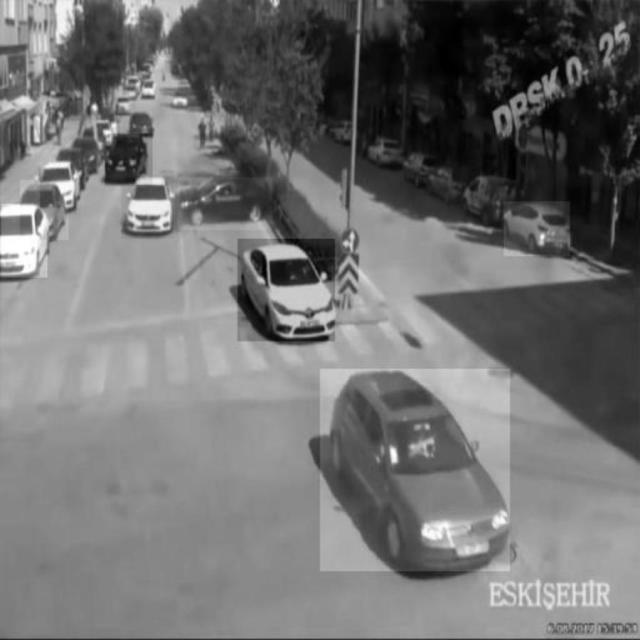vehicle: (321, 369, 511, 571), (238, 239, 336, 341), (177, 178, 273, 230), (504, 202, 570, 257), (1, 204, 47, 277), (121, 175, 173, 239), (20, 180, 68, 240), (105, 134, 152, 186), (40, 159, 81, 209)
